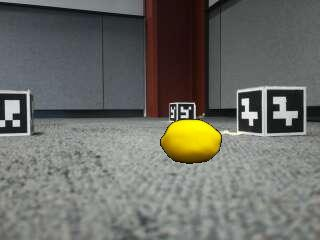lemon: (161, 120, 221, 163)
